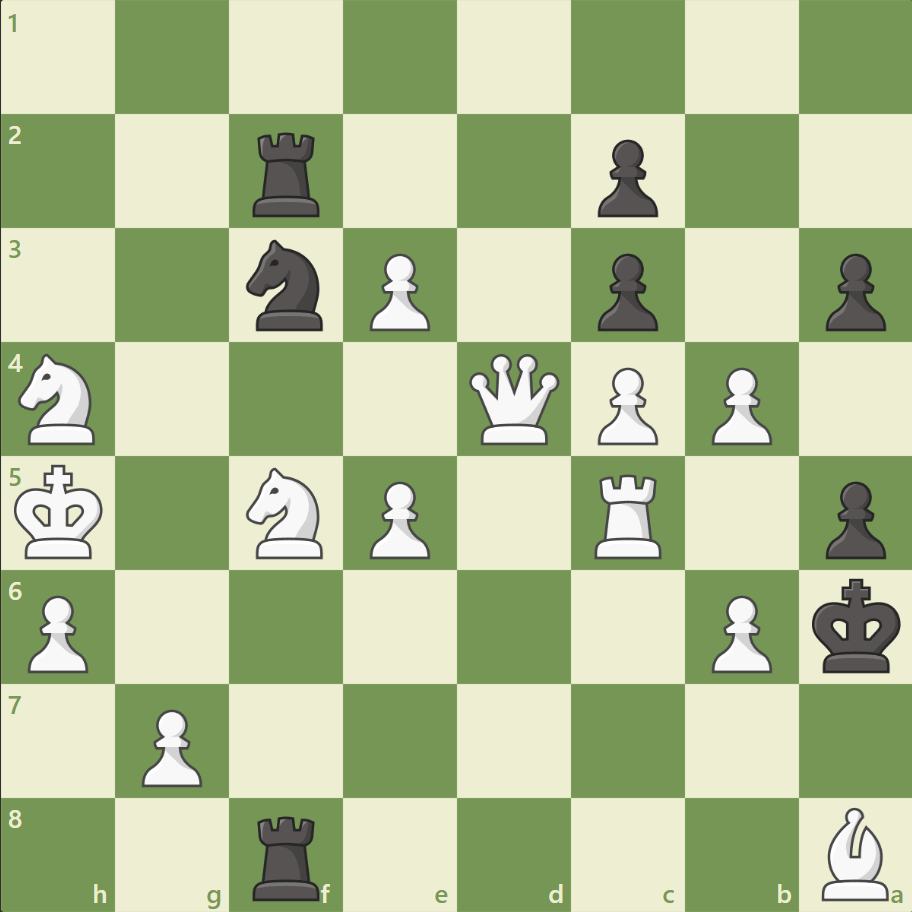B: (812, 801, 896, 904)
K: (11, 458, 111, 566)
N: (238, 461, 335, 564), (11, 348, 108, 450)
P: (133, 700, 208, 791), (701, 586, 776, 677), (20, 586, 95, 677), (701, 359, 776, 450), (361, 473, 435, 564), (588, 359, 662, 450), (361, 246, 435, 337)
Q: (464, 349, 563, 449)
R: (587, 466, 670, 563)
k: (806, 571, 906, 679)
n: (238, 234, 335, 337)
p: (815, 473, 889, 564), (815, 246, 889, 337), (588, 246, 662, 337), (588, 132, 662, 223)
r: (246, 806, 329, 904), (246, 125, 329, 222)
